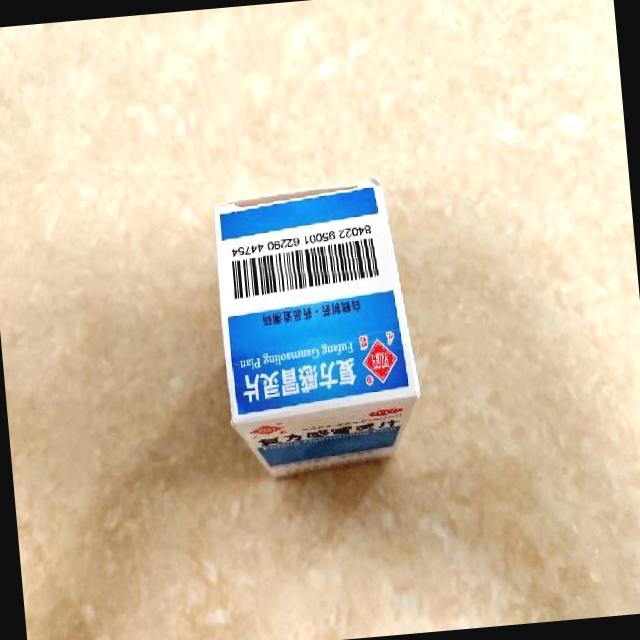box: (210, 175, 427, 481)
